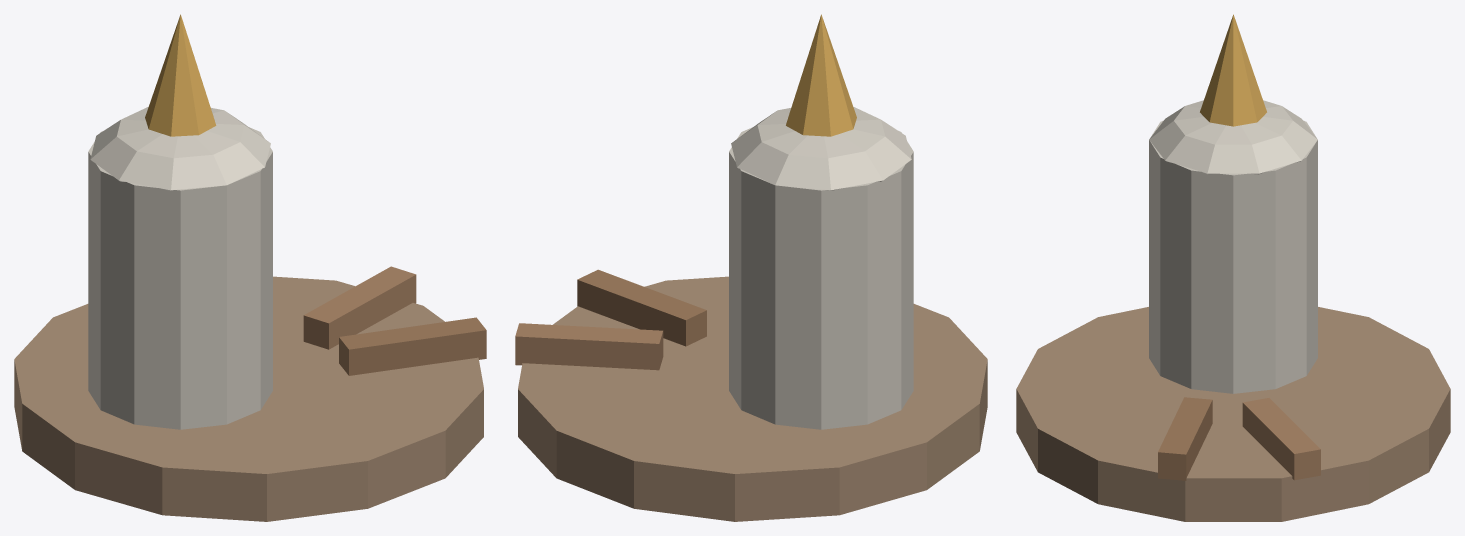
File: aces_vela2.glb
3 renders of one model, left to right at view 1: azimuth 30°, elevation 25°; view 2: azimuth 150°, elevation 25°; view 3: azimuth 270°, elevation 25°, orthographic. The views are drawn at different scales.
Visible parts, largest first — view 1: ACES_VELA2; view 2: ACES_VELA2; view 3: ACES_VELA2.
Boxes of the visible parts, bbox=[...] form: ACES_VELA2: bbox=[14, 14, 486, 521]; ACES_VELA2: bbox=[515, 14, 987, 521]; ACES_VELA2: bbox=[1016, 14, 1450, 521].
Bounding box in the file's own units: 0.1759 × 0.1775 × 0.18.
